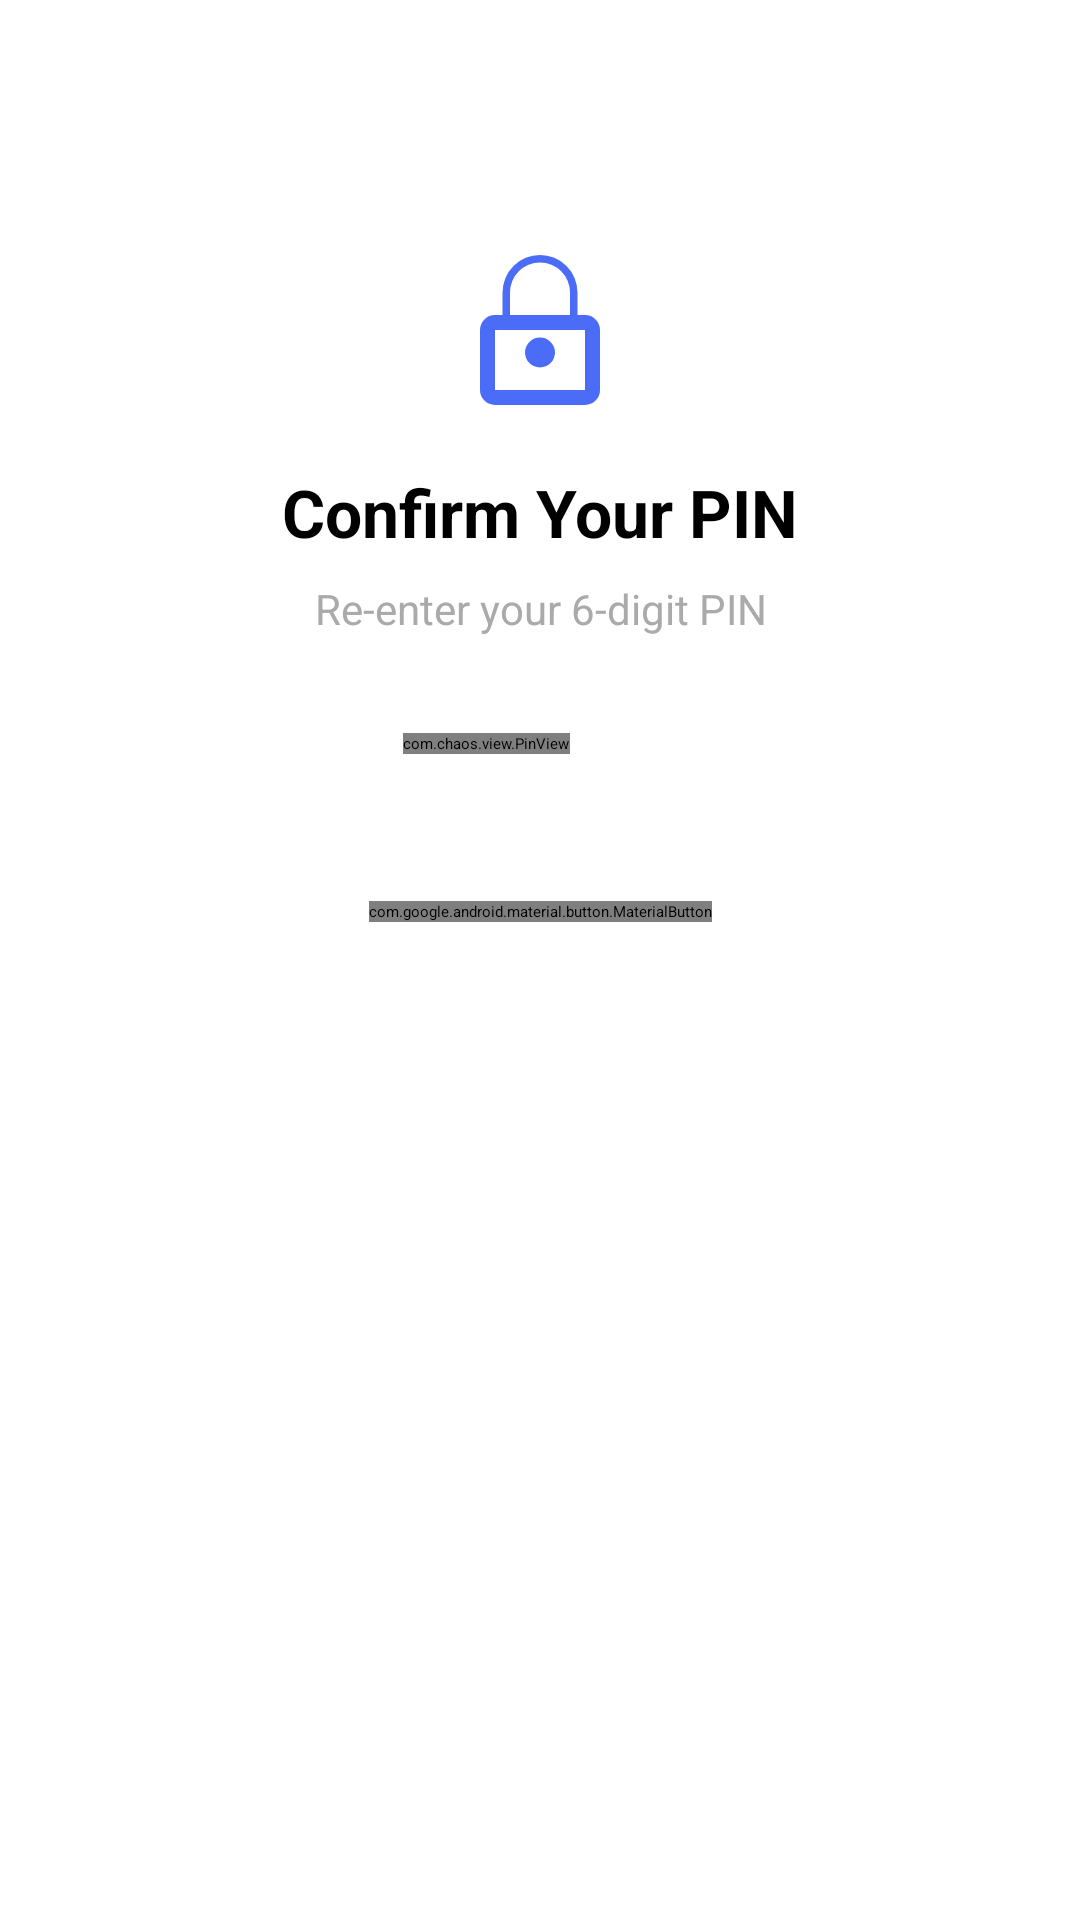

Named icons in this screenshot (1080w x 1920h) and their bounding boxes, (x1, y1, x2, y2):
lock: (480, 255, 600, 405)
